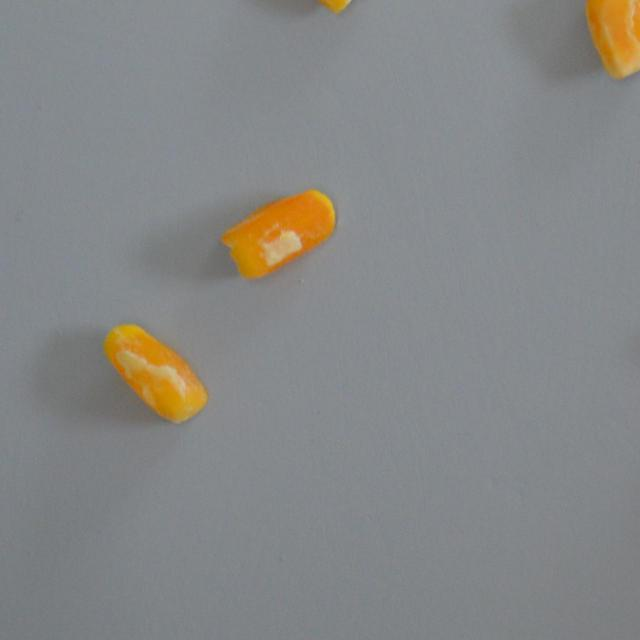pelicula: (102, 320, 208, 427), (220, 188, 336, 280), (581, 0, 640, 78), (280, 0, 399, 13)
